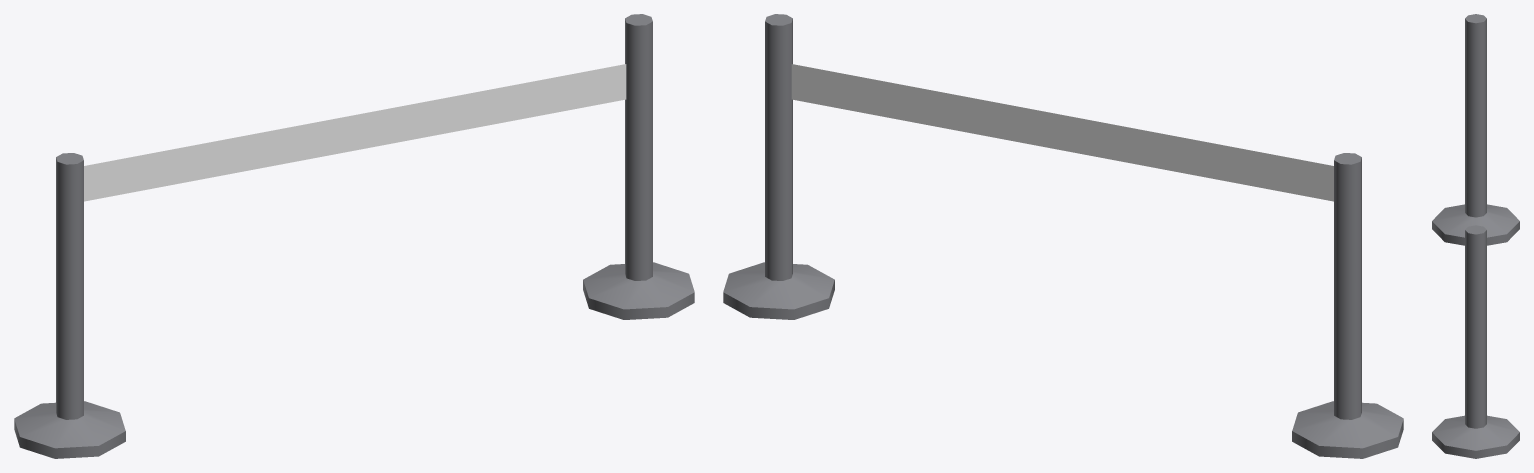
Rendered from police tape.fbx.
3 views of the same model, side by side, from view 1: azimuth 30°, elevation 25°; view 2: azimuth 150°, elevation 25°; view 3: azimuth 270°, elevation 25° (orthographic). The views are drawn at different scales.
Parts seen in each view (by area): view 1: Cylinder; view 2: Cylinder; view 3: Cylinder.
Part boxes in pixels (<box>): Cylinder: <box>14,14,694,458</box>; Cylinder: <box>723,14,1403,458</box>; Cylinder: <box>1432,14,1519,458</box>.
Bounding box in the file's own units: 2.47 × 0.9766 × 0.3698.
1 material, 1 textured.
